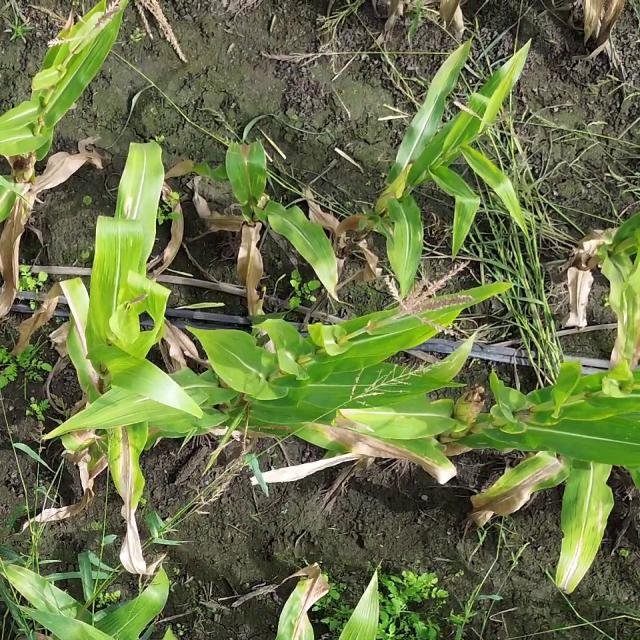gray-leaf-spot: (100, 226, 162, 296)
northern-leaf-blight: (548, 484, 640, 599), (109, 419, 166, 532), (231, 141, 288, 200)
southern-leaf-blight: (615, 399, 640, 464)
